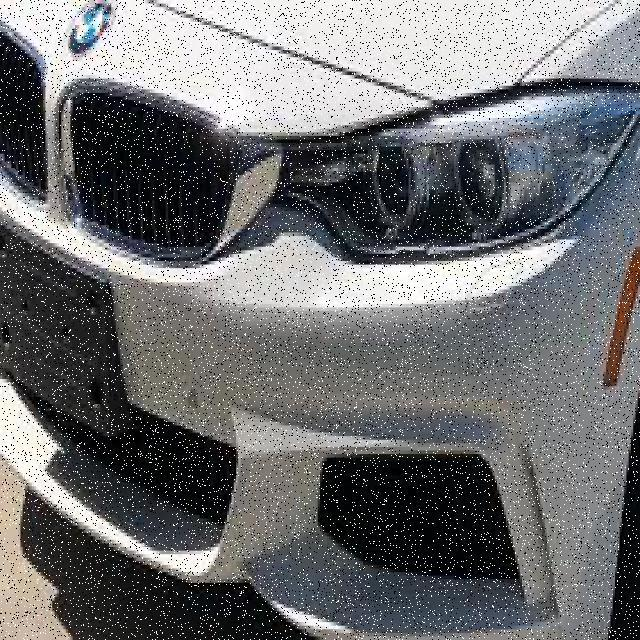front-bumper-dent: (272, 254, 629, 633)
